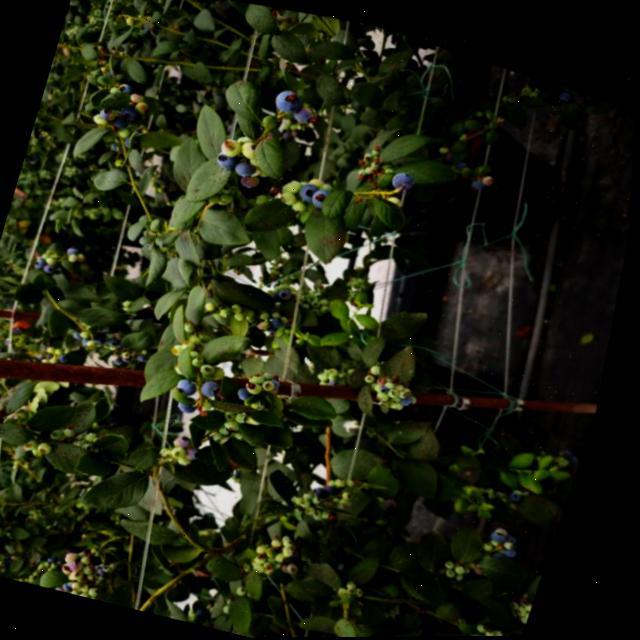RipeBlueBerry: (272, 78, 309, 114), (200, 371, 236, 405), (218, 146, 243, 170)
UnripeBlueBerry: (199, 352, 229, 377), (177, 372, 205, 397), (281, 186, 301, 204)
